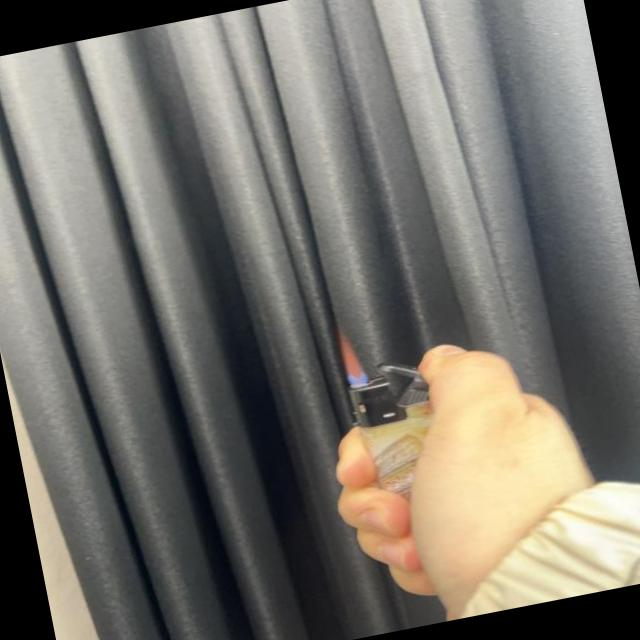Fire: (332, 326, 370, 392)
